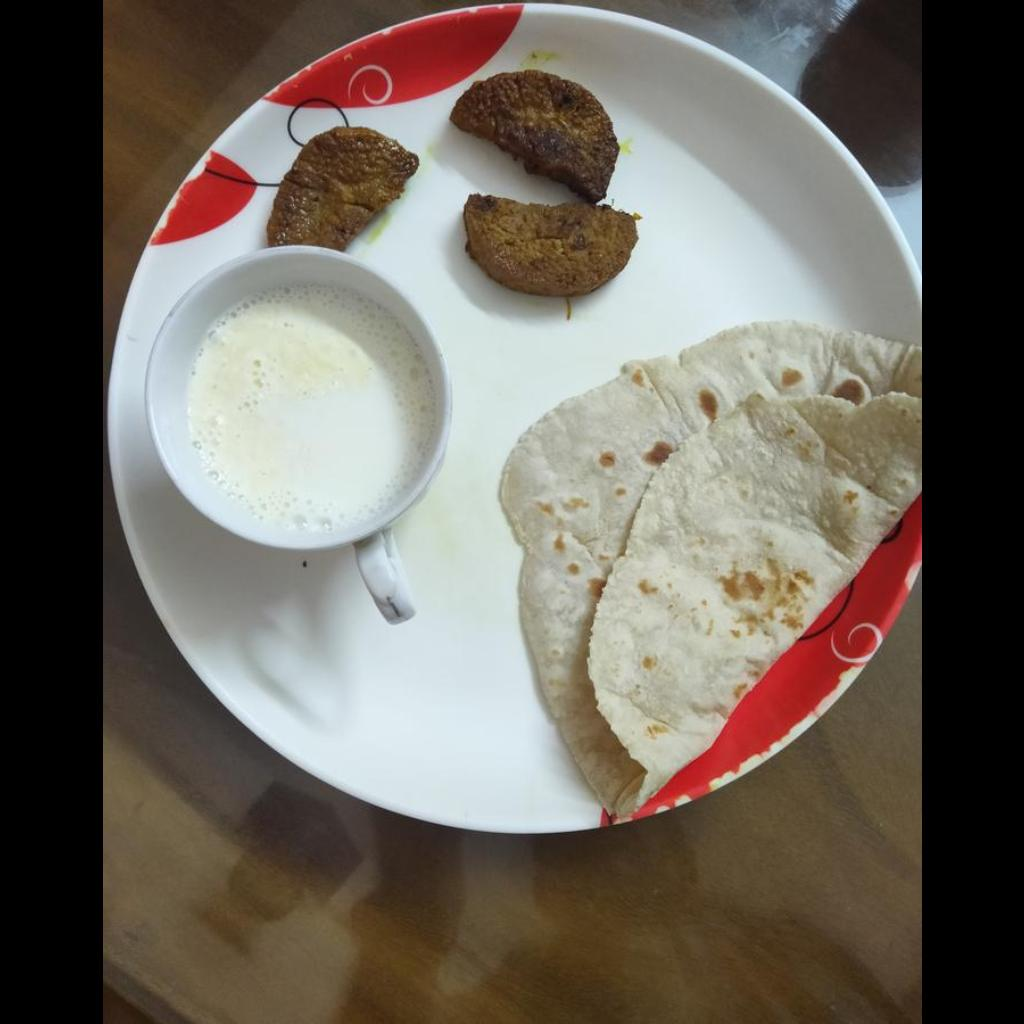kabab: (449, 70, 639, 293), (267, 126, 417, 250)
milk: (178, 289, 434, 529)
ruti: (497, 321, 920, 821)
